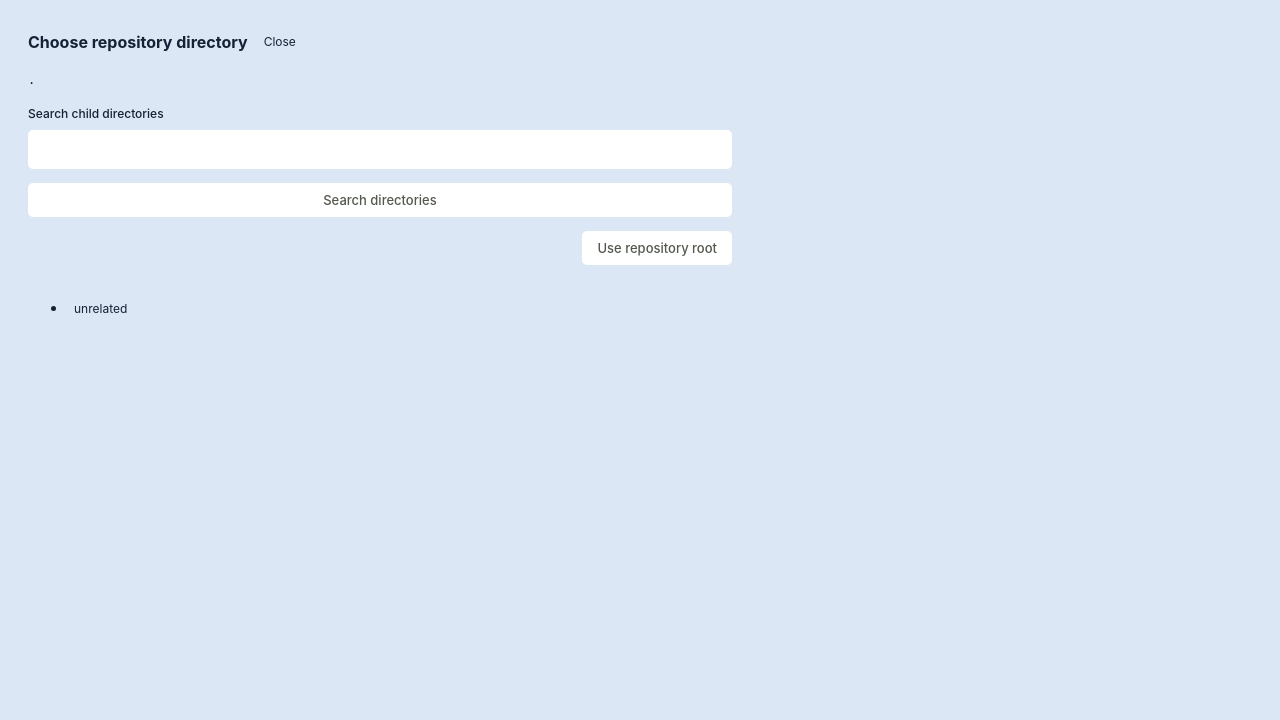
it: searches the current directory and keeps the query on subsequent pages
The width and height of the screenshot is (1280, 720).
Expected: the button "unrelated" is shown, [68,295,133,322]
In the search field labelled "Search child directories": (380,149) [28,130,732,169], type "module"
Then press Enter
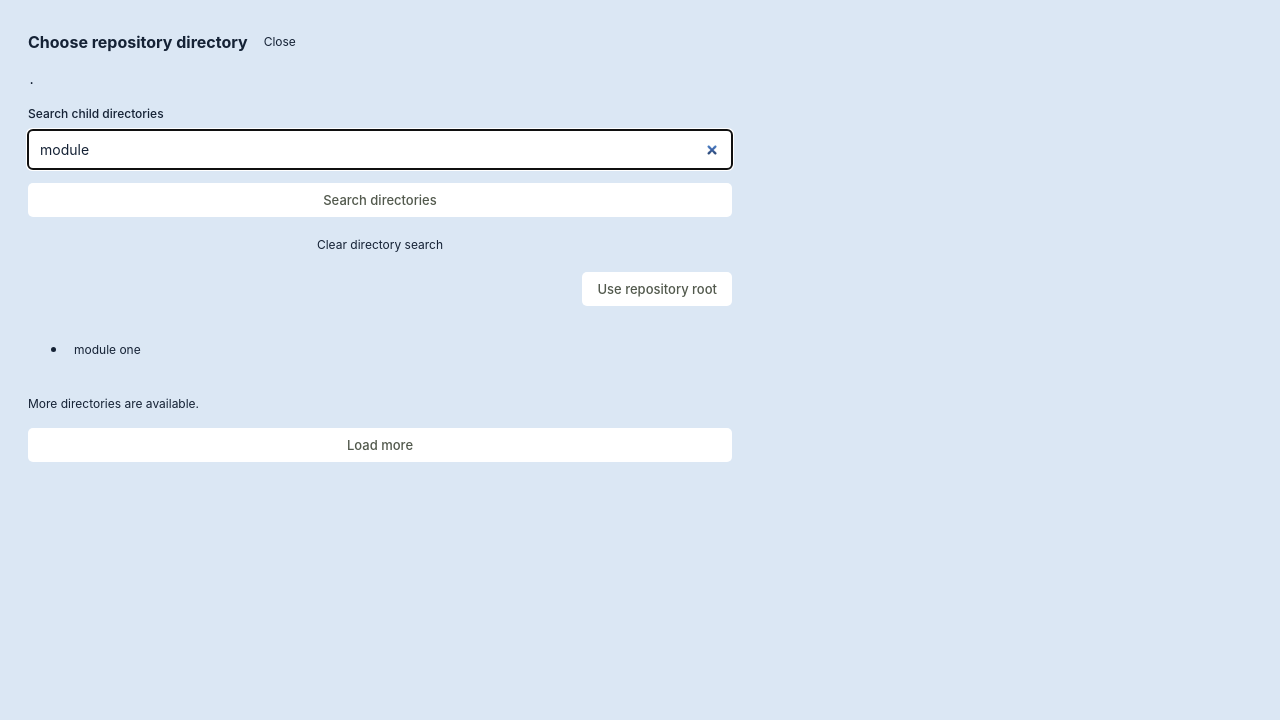
Now the button "module one" is shown, box [68,336,147,363]
Now the button "unrelated" is gone
Click the button "Load more": (380,445) [28,428,732,462]
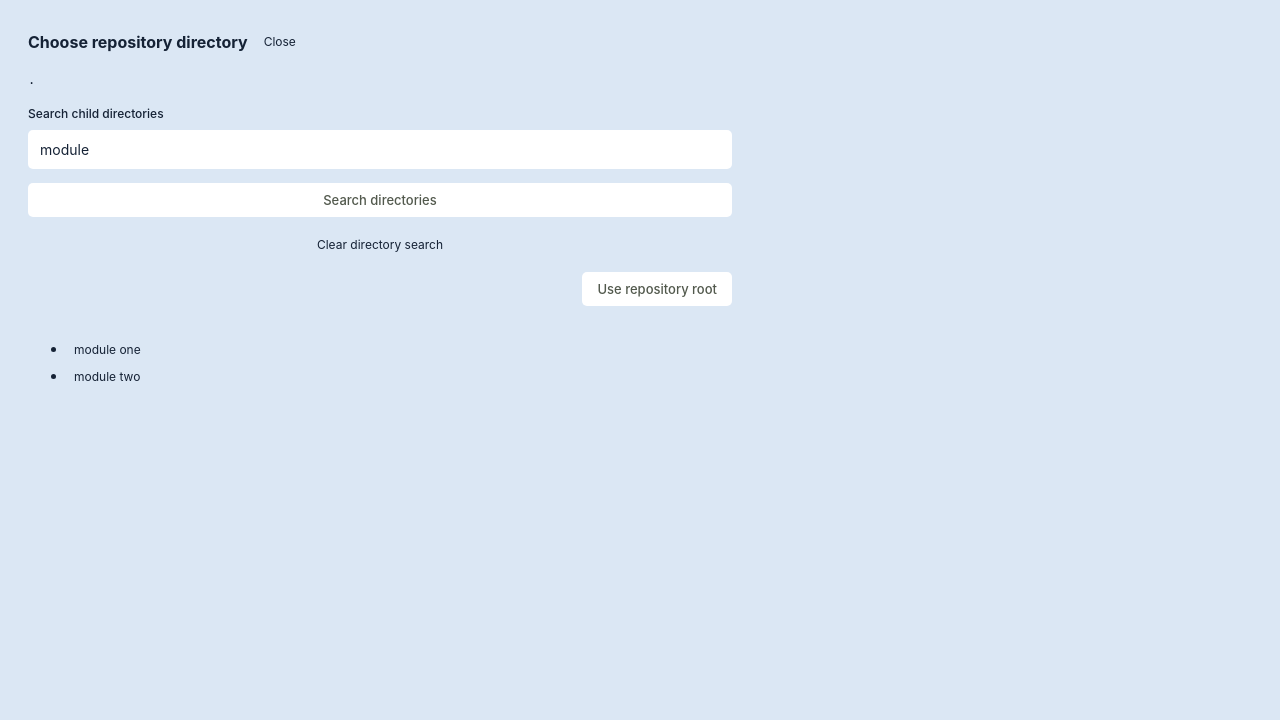
Now the button "module two" is shown, box [68,363,146,390]
Click the button "module one": (107,349) [68,336,147,363]
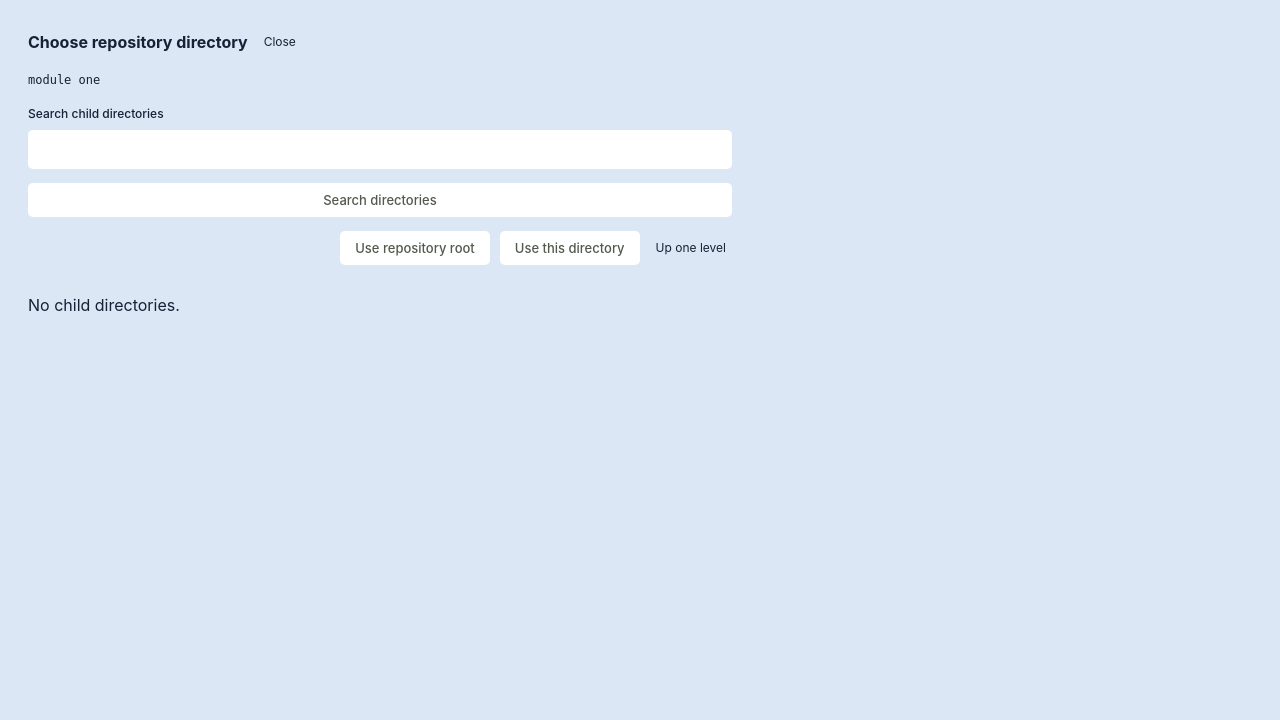
Now the text "No child directories." is shown, box [28,295,180,315]
Now the text "module one" is shown, box [28,73,100,87]
Now the search field is empty, box [28,130,732,169]
